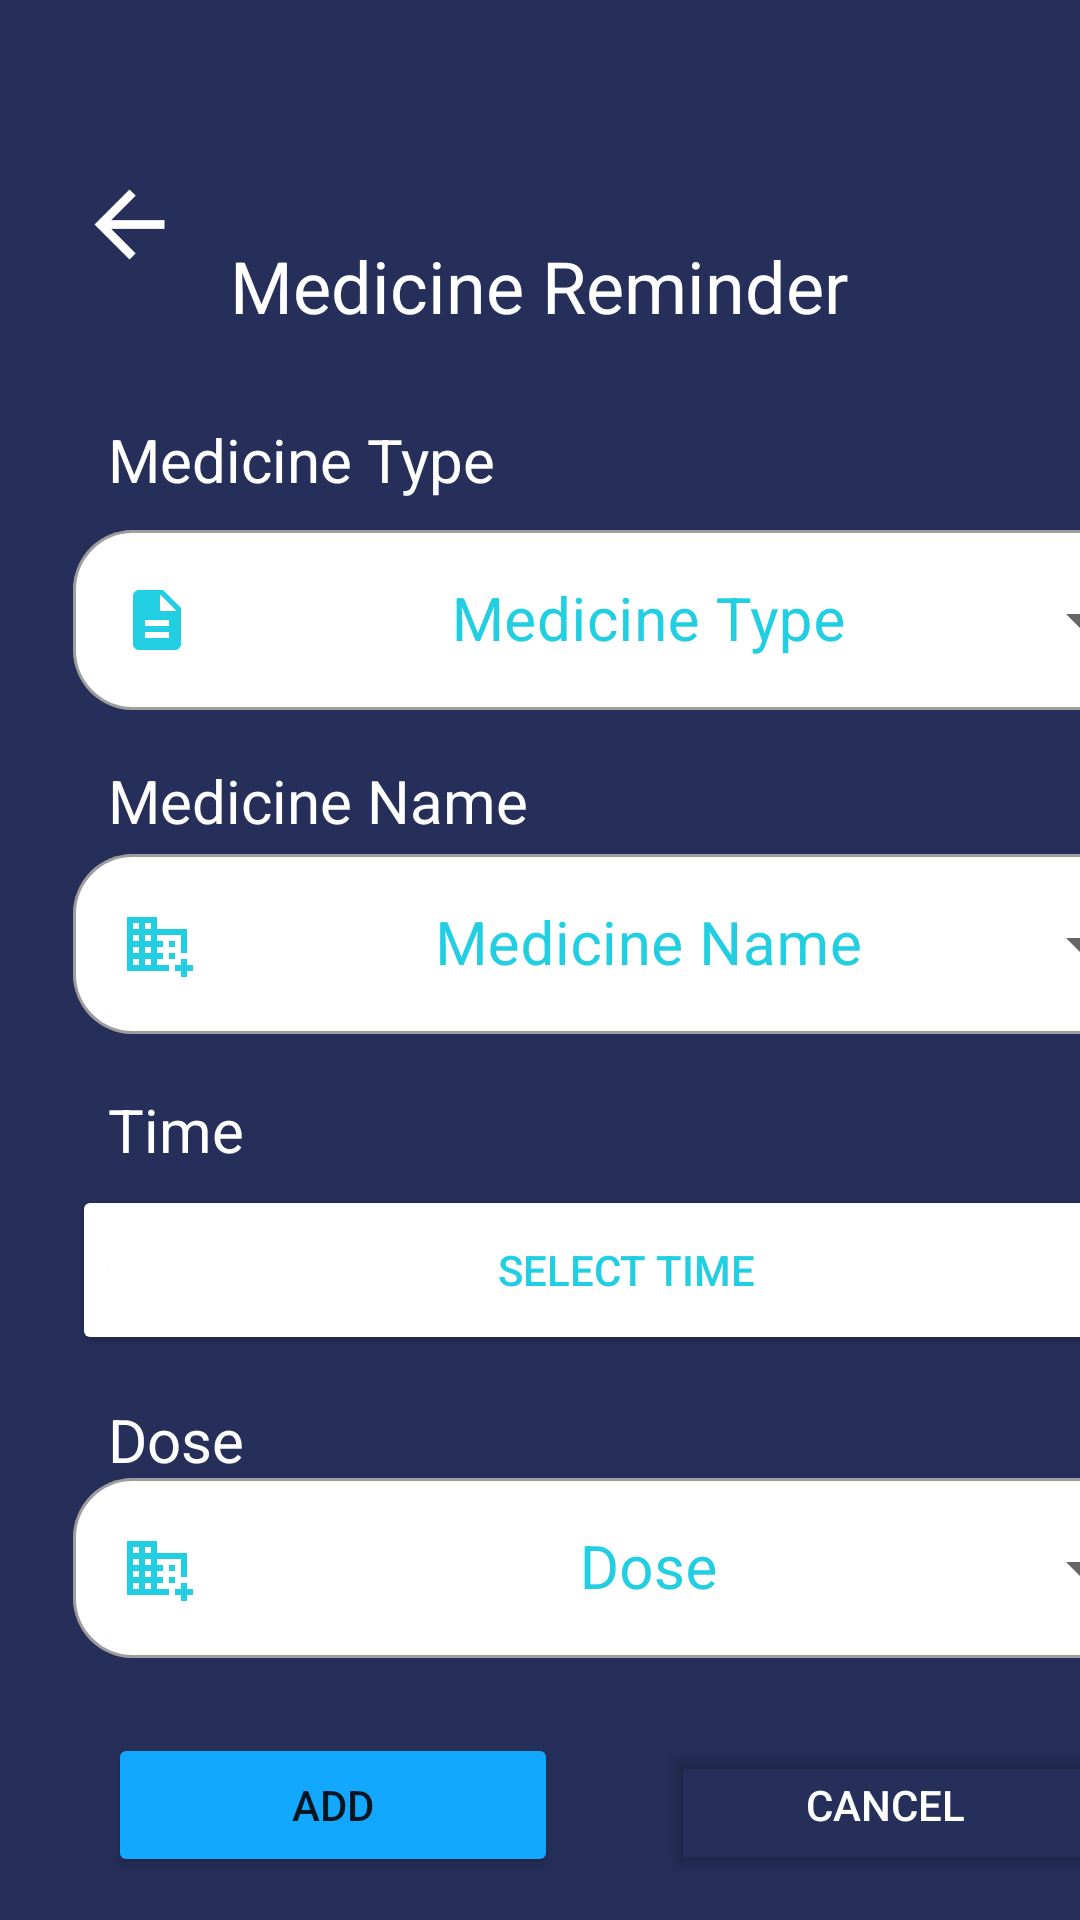

Icon click points for this 1080 × 1920 phone screenshot, format point (x, y):
back: point (129, 224)
